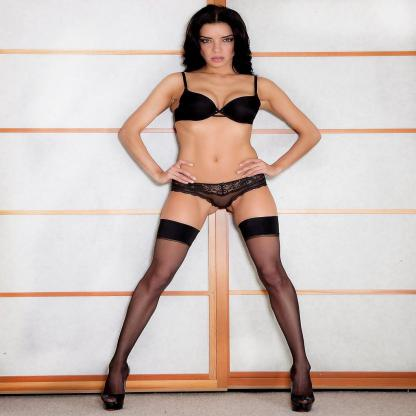long-hair: (170, 64, 262, 74)
